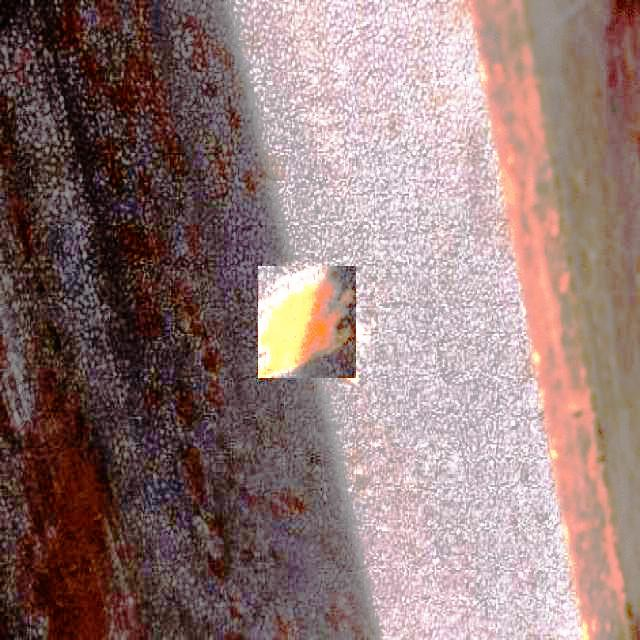Corrosion: (278, 284, 343, 368), (260, 302, 289, 376)
